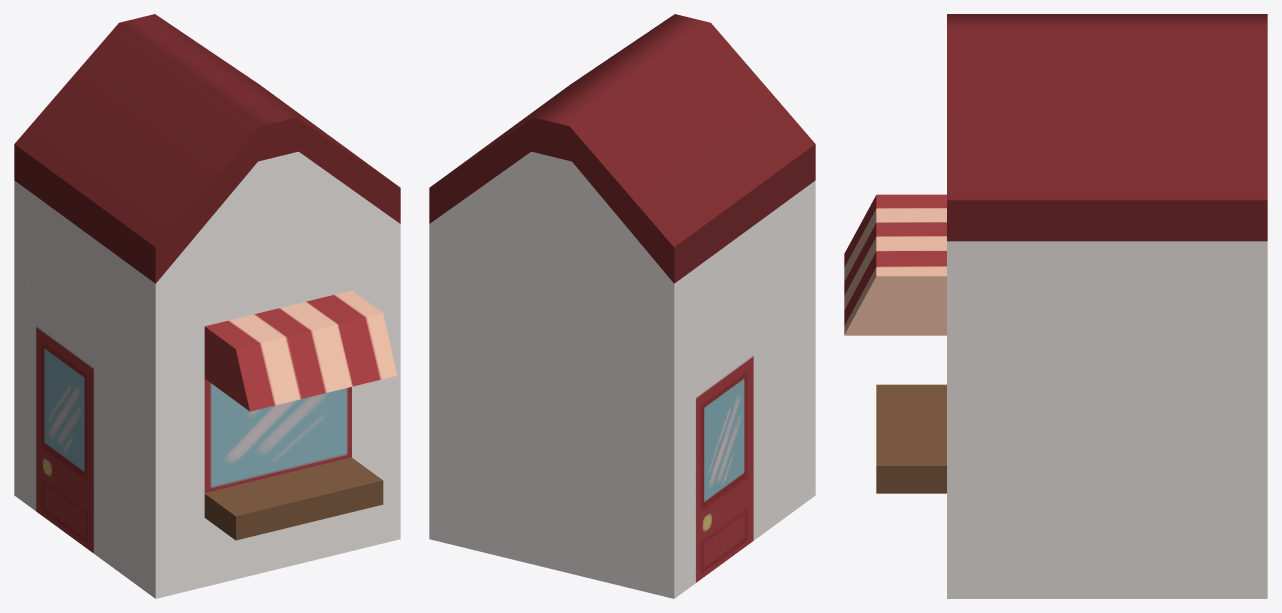
File: shop.fbx
The picture shows the model from 3 angles, left to right: view 1: azimuth 30°, elevation 25°; view 2: azimuth 150°, elevation 25°; view 3: azimuth 270°, elevation 25°; orthographic projection. The views are drawn at different scales.
Parts seen in each view (by area): view 1: pCube1; view 2: pCube1; view 3: pCube1.
Boxes of the visible parts, x1,y1,x2,y2 form: pCube1: [14, 14, 400, 598]; pCube1: [429, 14, 815, 598]; pCube1: [844, 14, 1267, 598].
Bounding box in the file's own units: 159 × 277 × 210.
